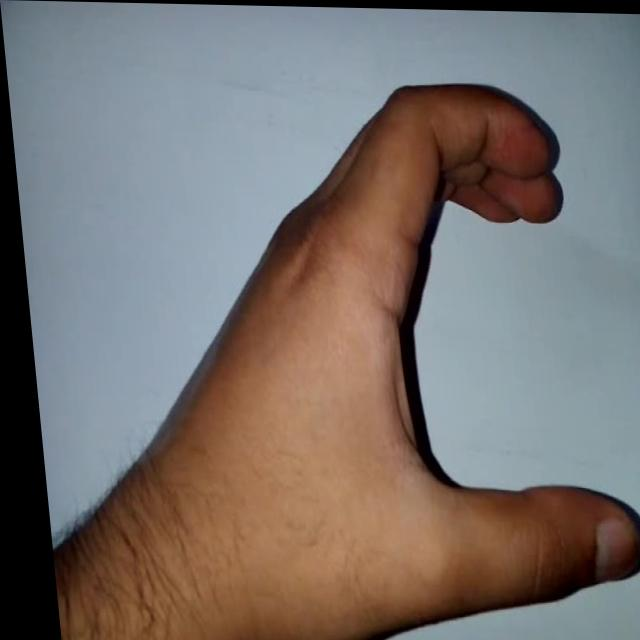C: (136, 73, 640, 640)
